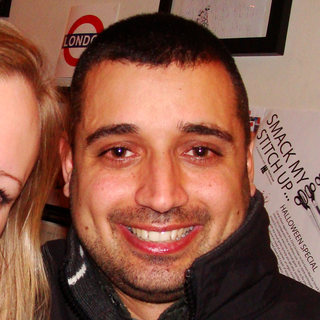eye: (96, 140, 142, 165), (179, 140, 225, 165)
